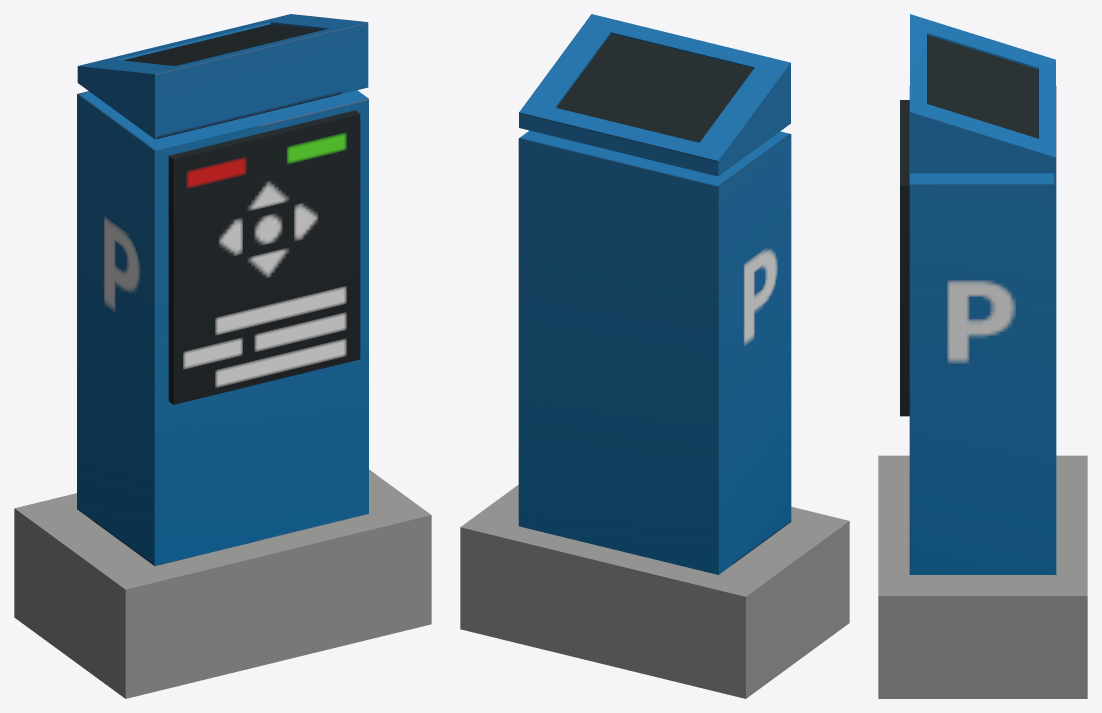
File: ParkingMachine1.fbx
3 renders of one model, left to right at view 1: azimuth 30°, elevation 25°; view 2: azimuth 150°, elevation 25°; view 3: azimuth 270°, elevation 25°, orthographic. The views are drawn at different scales.
Parts seen in each view (by area): view 1: ParkingMachine1; view 2: ParkingMachine1; view 3: ParkingMachine1.
Part boxes in pixels (x1,y1,x2,y2): ParkingMachine1: (14,14,431,698); ParkingMachine1: (460,14,849,698); ParkingMachine1: (878,14,1087,698).
Size of the model in its own units: 0.7512 by 1.41 by 0.4728.
